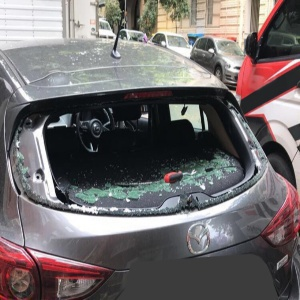bumper_scratch: (138, 157, 245, 263)
